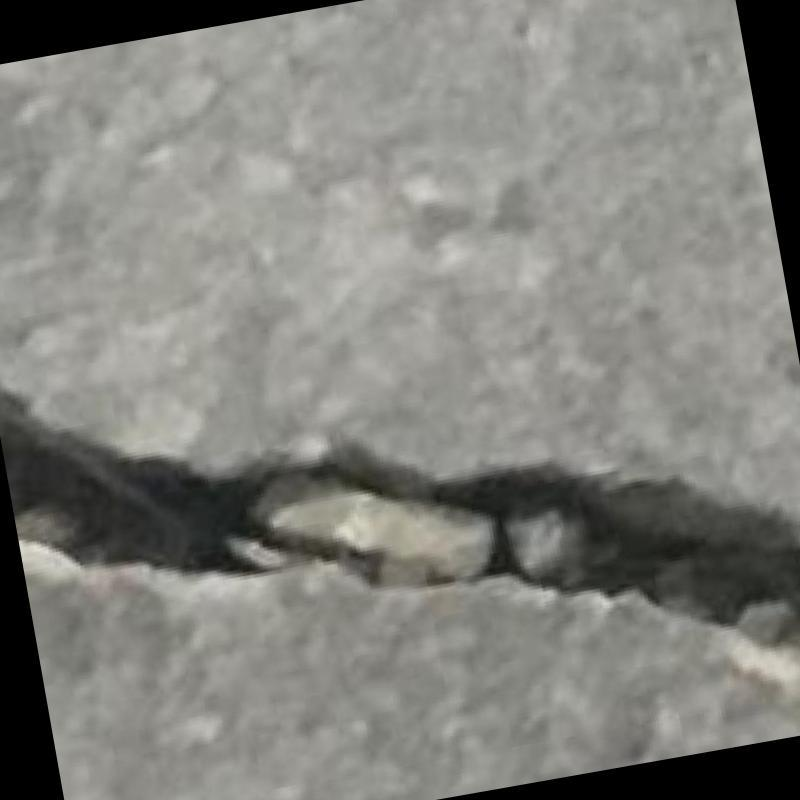pothole: (0, 386, 800, 629)
